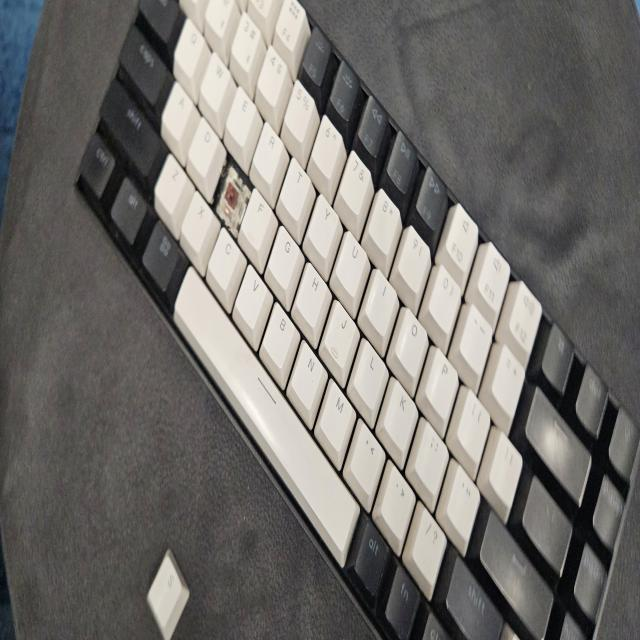C: (220, 168, 239, 222)
